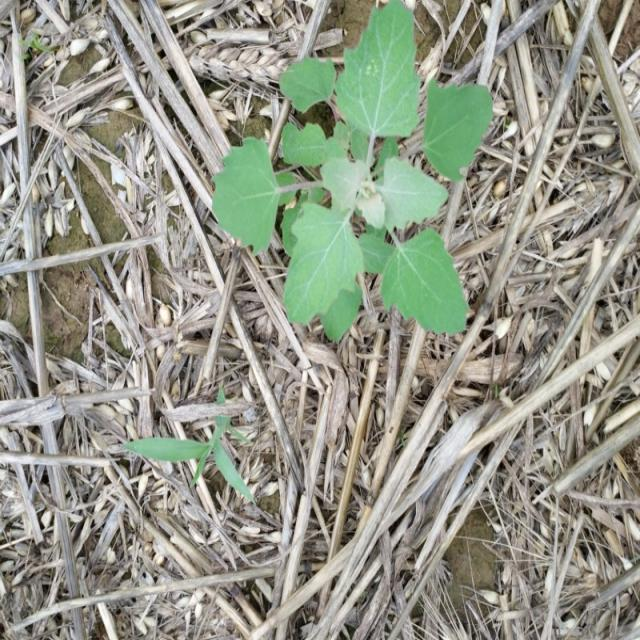goosefoots: (222, 4, 518, 369)
